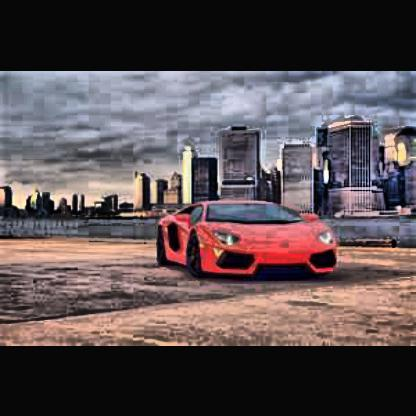Lamborghini Aventador Coupe 2012: (161, 200, 342, 280)
